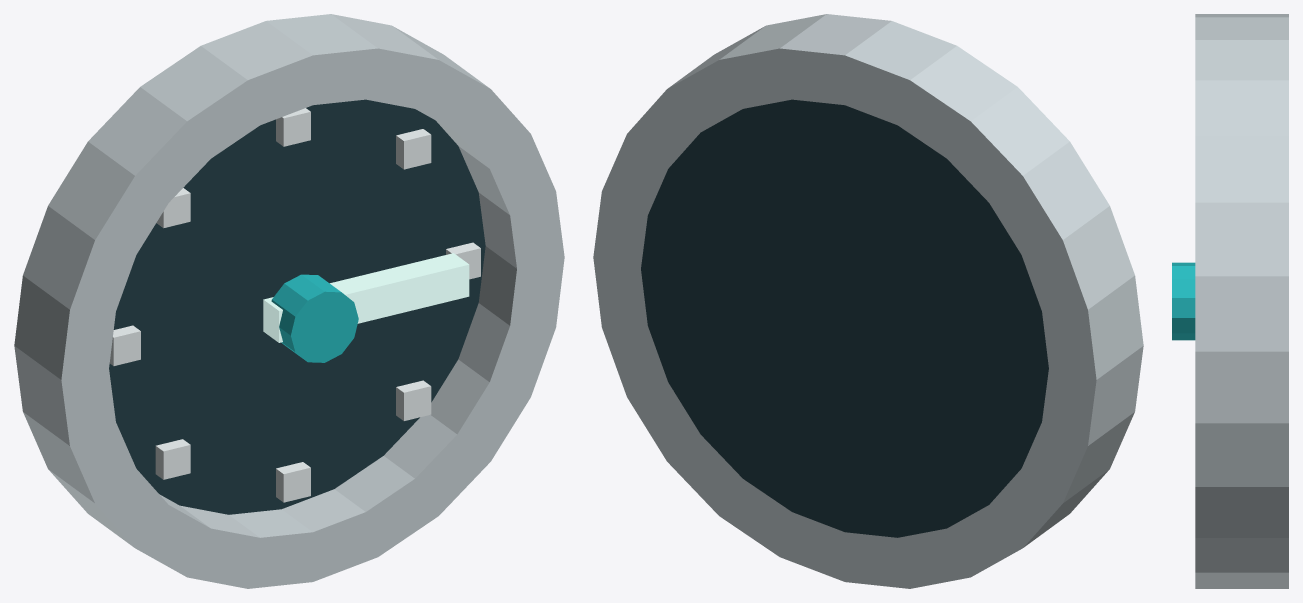
The model's file is AQUA-019.glb.
3 views of the same model, side by side, from view 1: azimuth 30°, elevation 25°; view 2: azimuth 150°, elevation 25°; view 3: azimuth 270°, elevation 25° (orthographic).
Parts seen in each view (by area): view 1: AQUA-019; view 2: AQUA-019; view 3: AQUA-019.
Part boxes in pixels (x1,y1,x2,y2): AQUA-019: (14,14,564,588); AQUA-019: (593,14,1143,588); AQUA-019: (1172,14,1288,588).
Bounding box in the file's own units: 0.74 × 0.74 × 0.15.
